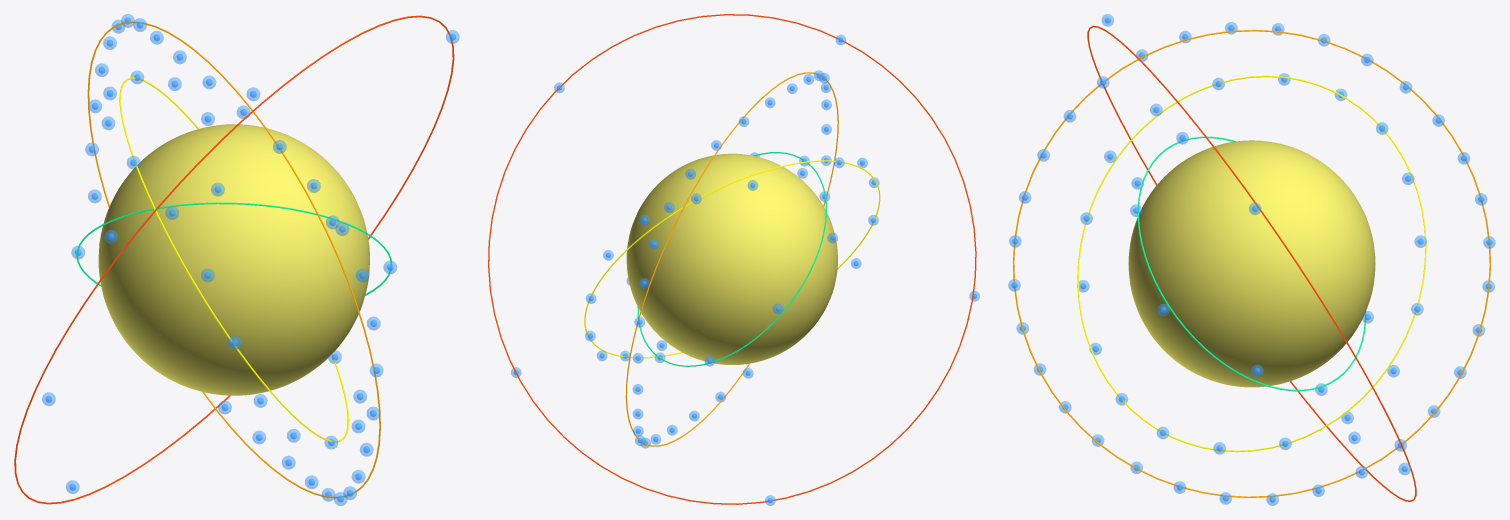
3 renders of one model, left to right at view 1: azimuth 30°, elevation 25°; view 2: azimuth 150°, elevation 25°; view 3: azimuth 270°, elevation 25°, orthographic. The views are drawn at different scales.
Parts seen in each view (by area): view 1: Tb, object 126, object 61, object 24, object 7; view 2: Tb, object 126, object 61, object 24, object 7; view 3: Tb, object 61, object 24, object 126, object 7.
Part boxes in pixels (x1,y1,x2,y2): Tb: [98, 124, 369, 395]; object 126: [14, 15, 454, 504]; object 61: [87, 21, 380, 498]; object 24: [119, 77, 349, 442]; object 7: [76, 202, 392, 295]; Tb: [626, 153, 837, 364]; object 126: [488, 14, 976, 504]; object 61: [625, 72, 838, 446]; object 24: [584, 160, 880, 358]; object 7: [637, 152, 826, 366]; Tb: [1128, 140, 1375, 387]; object 61: [1013, 29, 1491, 497]; object 24: [1077, 75, 1426, 452]; object 126: [1087, 25, 1416, 501]; object 7: [1137, 136, 1366, 391].
Size of the model in its own units: 6.75 by 6.45 by 6.14.
